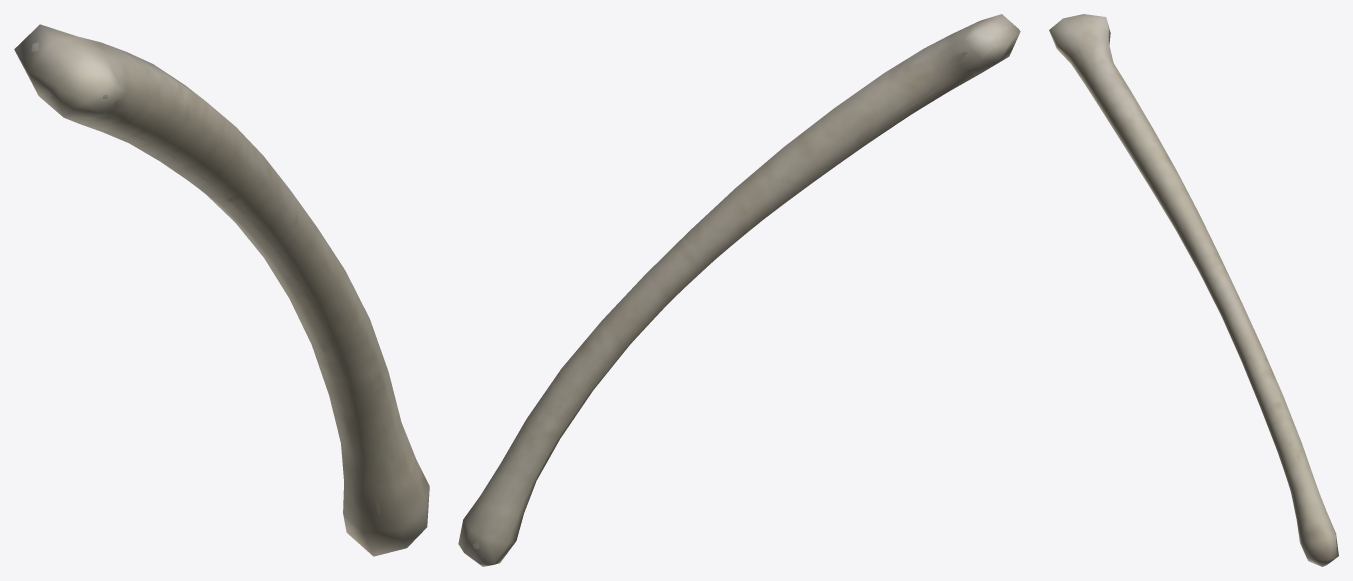
Rendered from Rib L11.fbx.
The picture shows the model from 3 angles, left to right: view 1: azimuth 30°, elevation 25°; view 2: azimuth 150°, elevation 25°; view 3: azimuth 270°, elevation 25°; orthographic projection. The views are drawn at different scales.
Parts seen in each view (by area): view 1: Rib L11 low, Rib L11; view 2: Rib L11 low, Rib L11; view 3: Rib L11 low, Rib L11.
Boxes of the visible parts, box(x1,y1,x2,y2) form: Rib L11 low: box(14, 24, 429, 556); Rib L11: box(31, 42, 417, 515); Rib L11 low: box(458, 14, 1020, 566); Rib L11: box(472, 25, 1010, 549); Rib L11 low: box(1049, 14, 1338, 566); Rib L11: box(1053, 36, 1336, 548).
Size of the model in its own units: 3.24 by 4.04 by 2.58.
1 material, 1 textured.
